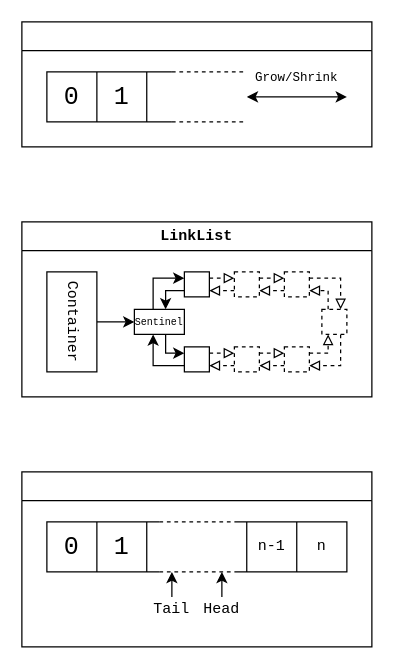
Some shapes in this 394 by 669 pixel diagram are drawn without their labels. Each missing label, with the box of its shape:
DynList: (21, 21, 372, 147)
Ringbuf: (21, 471, 372, 647)
